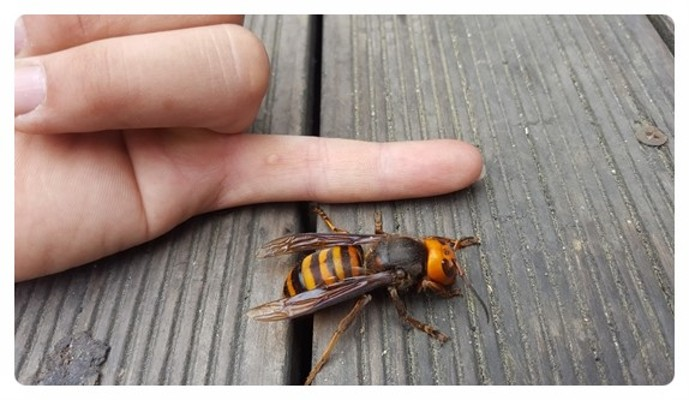asian_giant_hornet: (251, 228, 465, 348)
